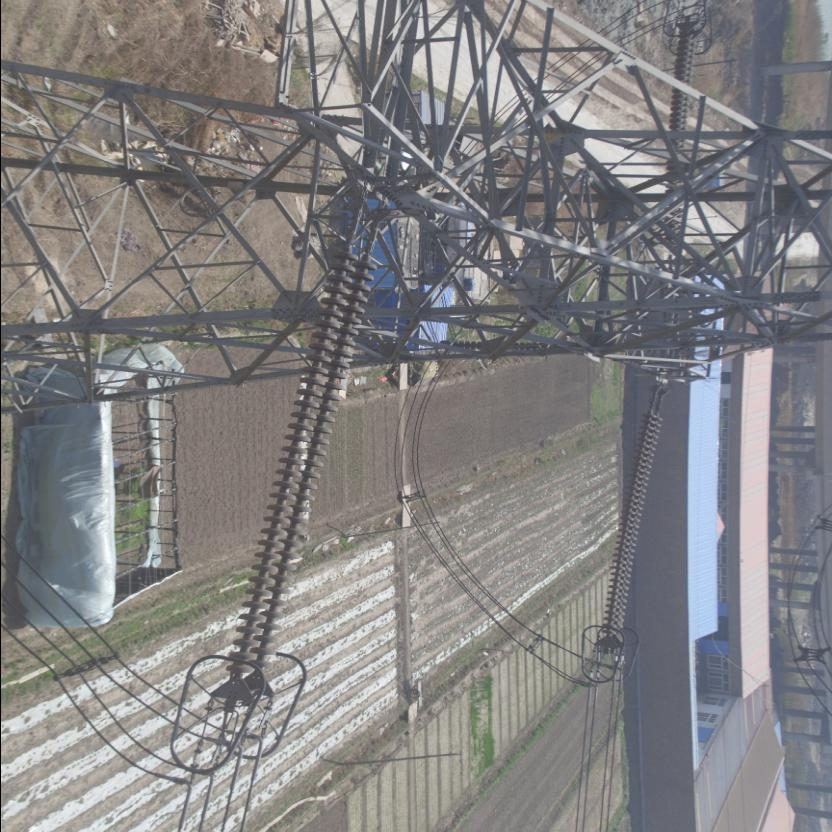insulator: (222, 230, 382, 689), (599, 404, 665, 642)
